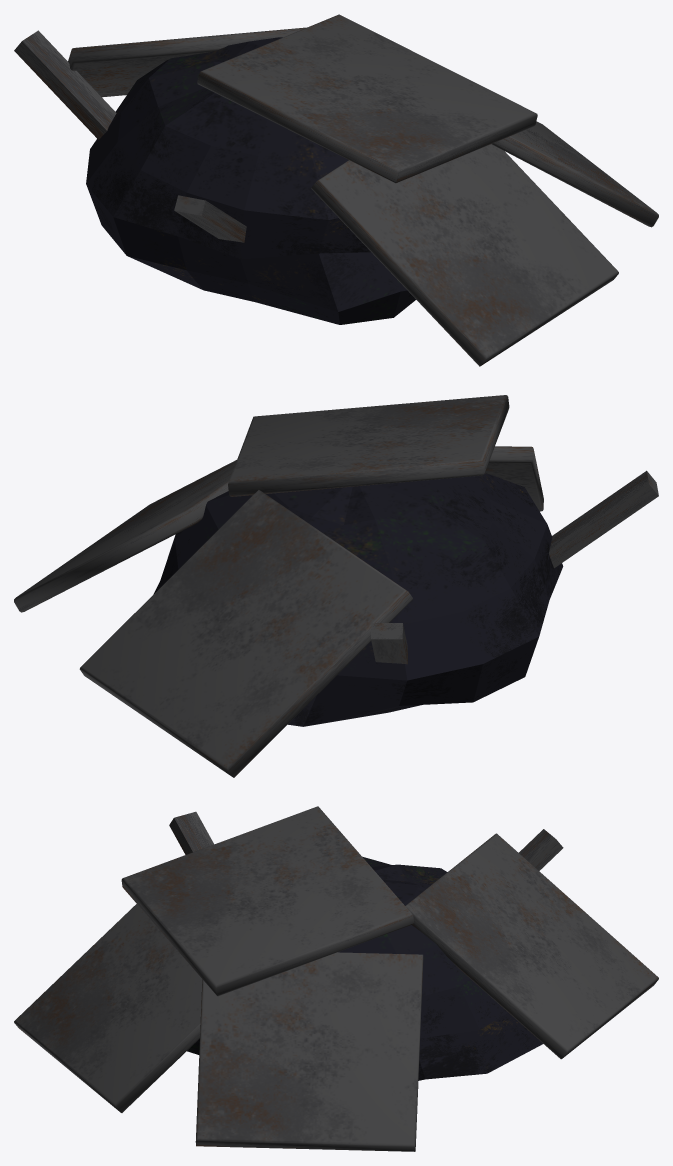
Rendered from Trash piles.fbx.
The picture shows the model from 3 angles, top to bottom: view 1: azimuth 30°, elevation 25°; view 2: azimuth 150°, elevation 25°; view 3: azimuth 270°, elevation 25°; orthographic projection. The views are drawn at different scales.
Parts seen in each view (by area): view 1: Trash Pile; view 2: Trash Pile; view 3: Trash Pile.
Part boxes in pixels (left/top/right/bottom): Trash Pile: left=14, top=14, right=658, bottom=366; Trash Pile: left=14, top=395, right=658, bottom=777; Trash Pile: left=14, top=806, right=658, bottom=1151.
Size of the model in its own units: 6.96 by 8.89 by 2.81.
